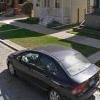Car: (7, 39, 100, 99)
